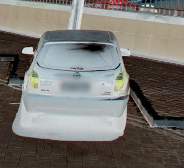car: (18, 25, 140, 136)
